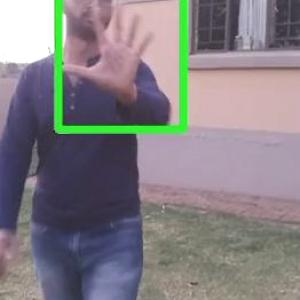follow_hand: (56, 0, 164, 91)
